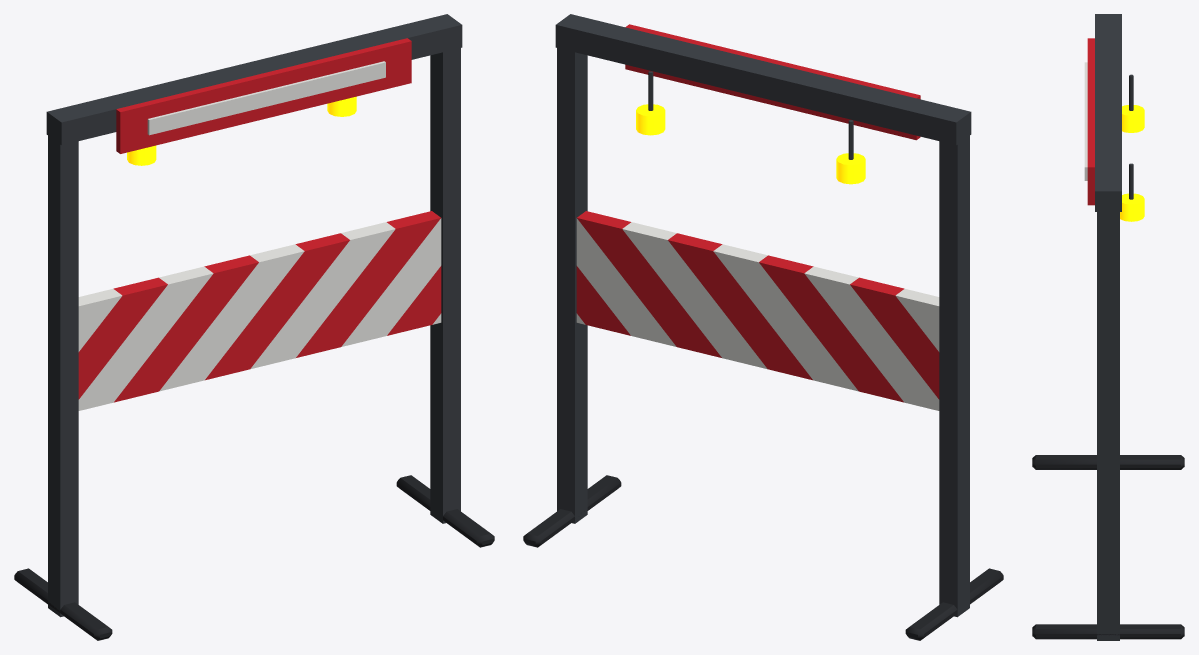
The model's file is barrier_high.glb.
The picture shows the model from 3 angles, left to right: view 1: azimuth 30°, elevation 25°; view 2: azimuth 150°, elevation 25°; view 3: azimuth 270°, elevation 25°; orthographic projection. The views are drawn at different scales.
Visible parts, largest first — view 1: Barrier_High_Mesh; view 2: Barrier_High_Mesh; view 3: Barrier_High_Mesh.
Part boxes in pixels (bbox=[...]): Barrier_High_Mesh: bbox=[14, 14, 494, 640]; Barrier_High_Mesh: bbox=[523, 14, 1003, 640]; Barrier_High_Mesh: bbox=[1032, 14, 1184, 640].
Size of the model in its own units: 2.2 by 2.6 by 0.8.
